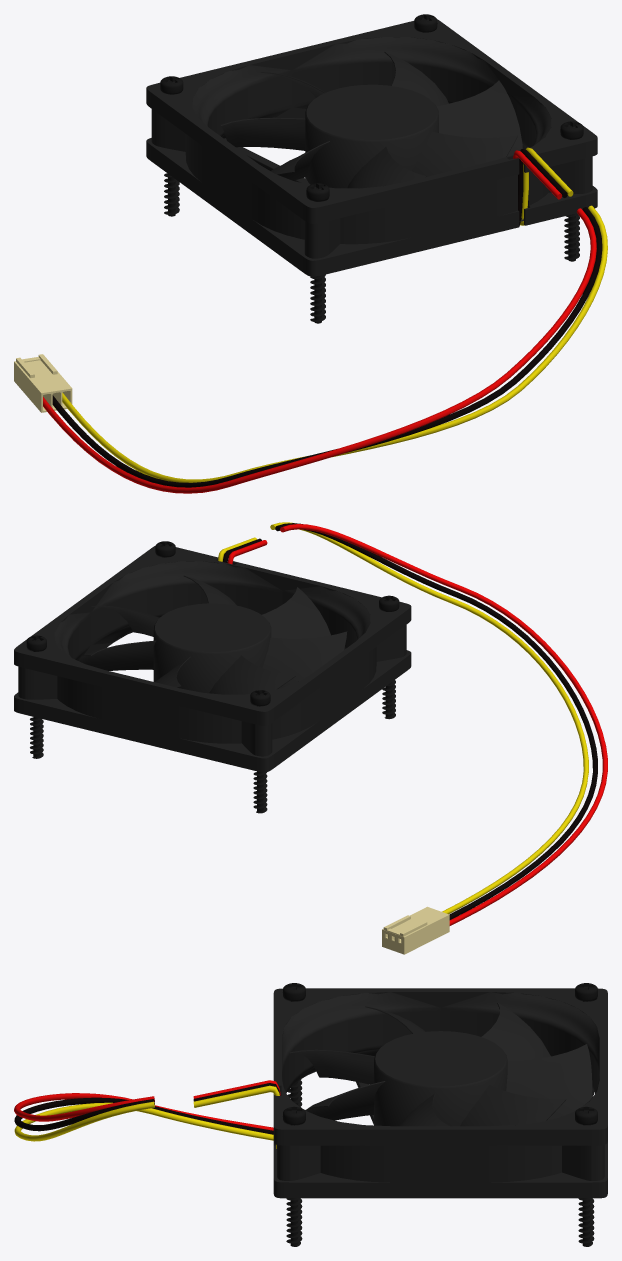
Rendered from system-fan.obj.
3 renders of one model, top to bottom at view 1: azimuth 30°, elevation 25°; view 2: azimuth 150°, elevation 25°; view 3: azimuth 270°, elevation 25°, orthographic. The views are drawn at different scales.
Parts seen in each view (by area): view 1: fan; view 2: fan; view 3: fan.
Part boxes in pixels (x1,y1,x2,y2): fan: (14, 14, 607, 493); fan: (14, 522, 607, 954); fan: (14, 983, 607, 1246).
Bounding box in the file's own units: 3.37 × 1.79 × 3.71.
